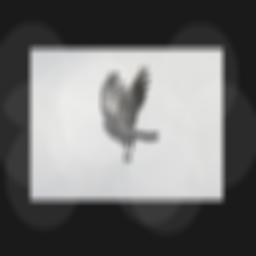Crow: (99, 65, 159, 165)
